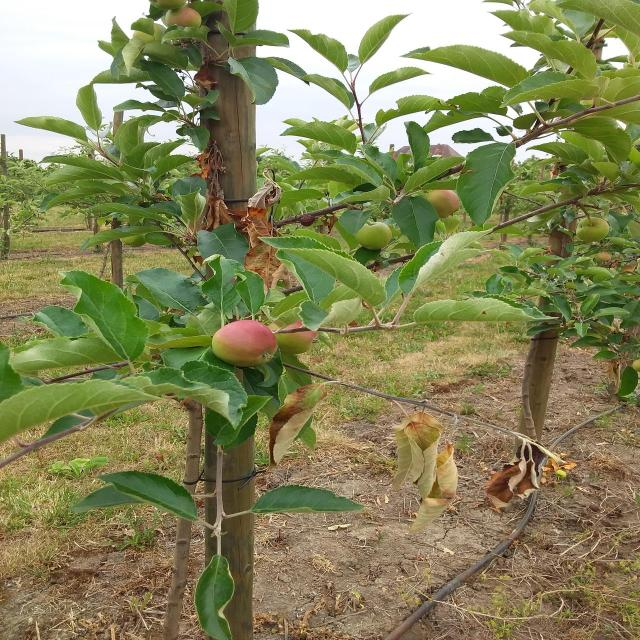-FireBlight-: (493, 416, 553, 508), (250, 175, 278, 274), (196, 141, 227, 226)
